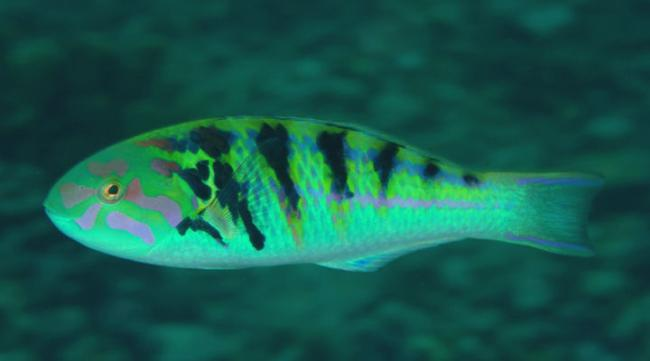fish: (44, 116, 606, 274)
